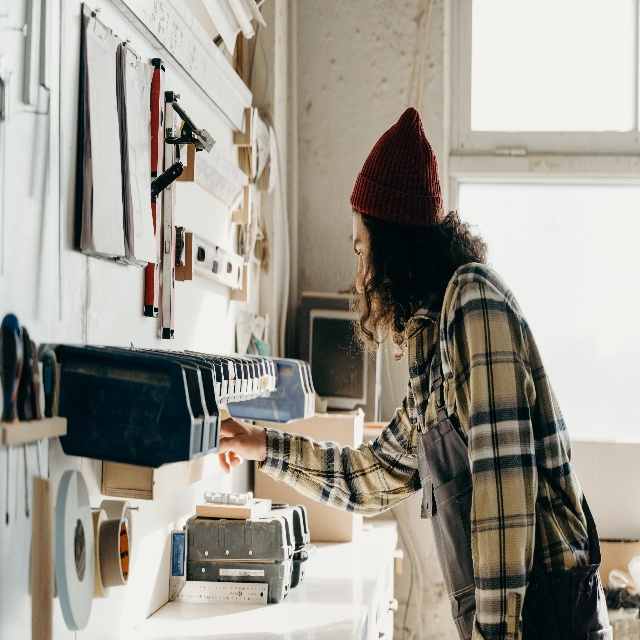Sin_guantes: (218, 415, 266, 473)
